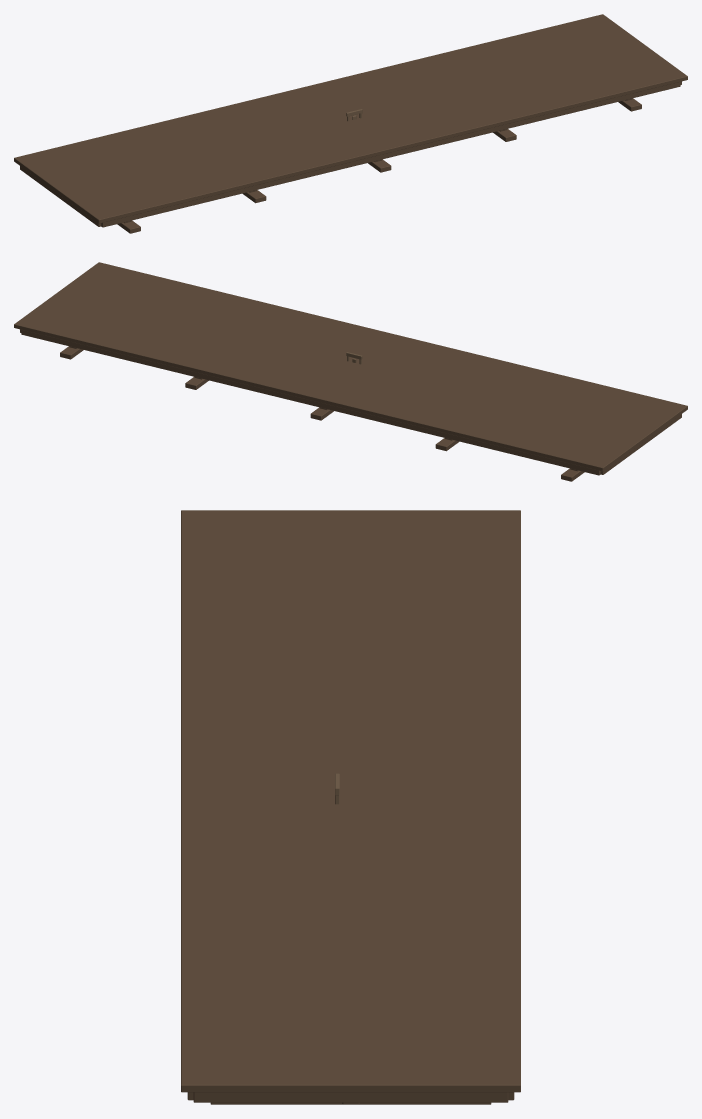
The model's file is table.glb.
3 renders of one model, top to bottom at view 1: azimuth 30°, elevation 25°; view 2: azimuth 150°, elevation 25°; view 3: azimuth 270°, elevation 25°, orthographic. The views are drawn at different scales.
Visible parts, largest first — view 1: Table; view 2: Table; view 3: Table.
Part boxes in pixels (bbox=[...]): Table: bbox=[14, 14, 687, 233]; Table: bbox=[14, 262, 687, 481]; Table: bbox=[181, 510, 520, 1104].
Bounding box in the file's own units: 16 × 0.965 × 4.
